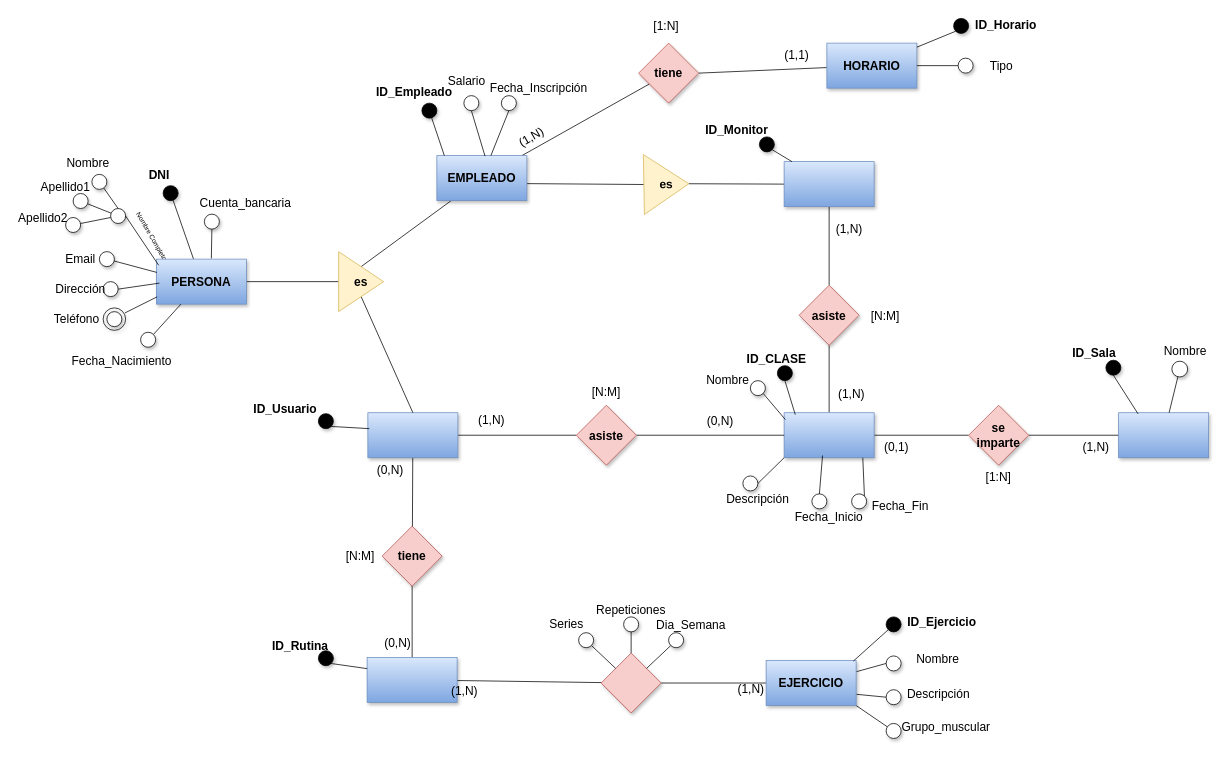
The diagram is 1228 pixels wide and 757 high, and some of its shapes have lost their labels. Each missing label, with the centre of its shape:
"CLASE" belongs at pixel 829 436.
"MONITOR" belongs at pixel 829 185.
"RUTINA" belongs at pixel 412 681.
"SALA" belongs at pixel 1164 436.
"se compone de" belongs at pixel 631 683.
"USUARIO" belongs at pixel 413 436.
